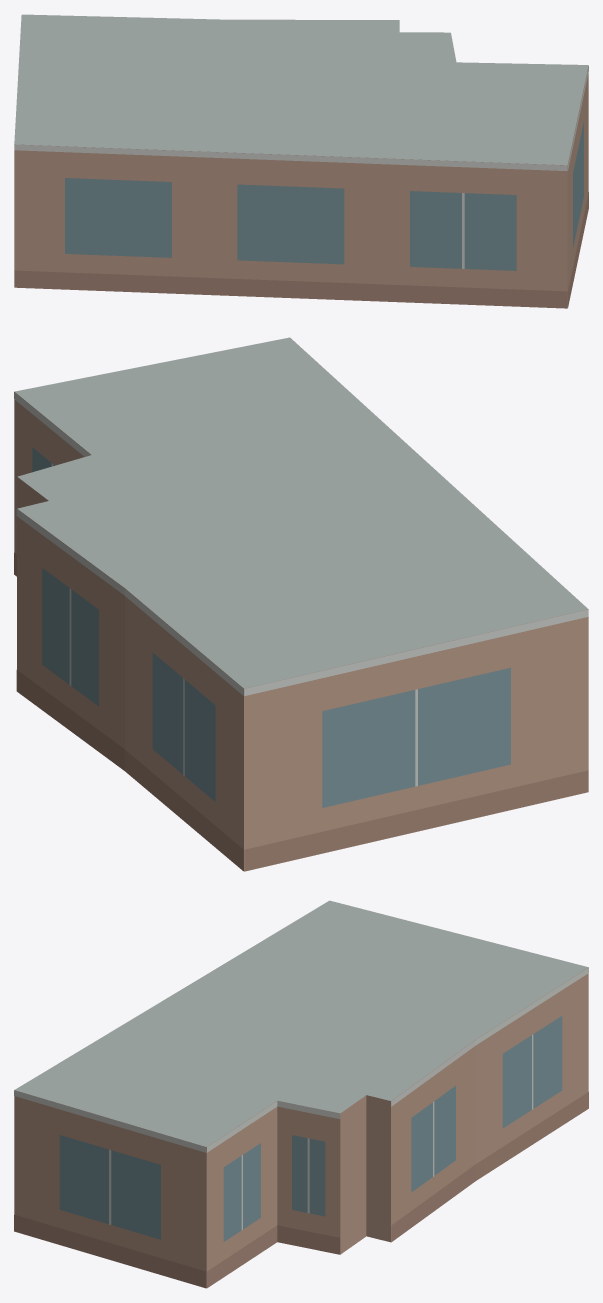
Rendered from survey-upis-32724663.glb.
3 views of the same model, one above another, from view 1: azimuth 30°, elevation 25°; view 2: azimuth 150°, elevation 25°; view 3: azimuth 270°, elevation 25° (orthographic). The views are drawn at different scales.
Visible parts, largest first — view 1: survey-upis-32724663.tmp; view 2: survey-upis-32724663.tmp; view 3: survey-upis-32724663.tmp.
Boxes of the visible parts, x1=… form: survey-upis-32724663.tmp: x1=14, y1=14, x2=588, y2=308; survey-upis-32724663.tmp: x1=14, y1=337, x2=588, y2=871; survey-upis-32724663.tmp: x1=14, y1=900, x2=588, y2=1288.
Size of the model in its own units: 11.43 by 3.05 by 11.25.
